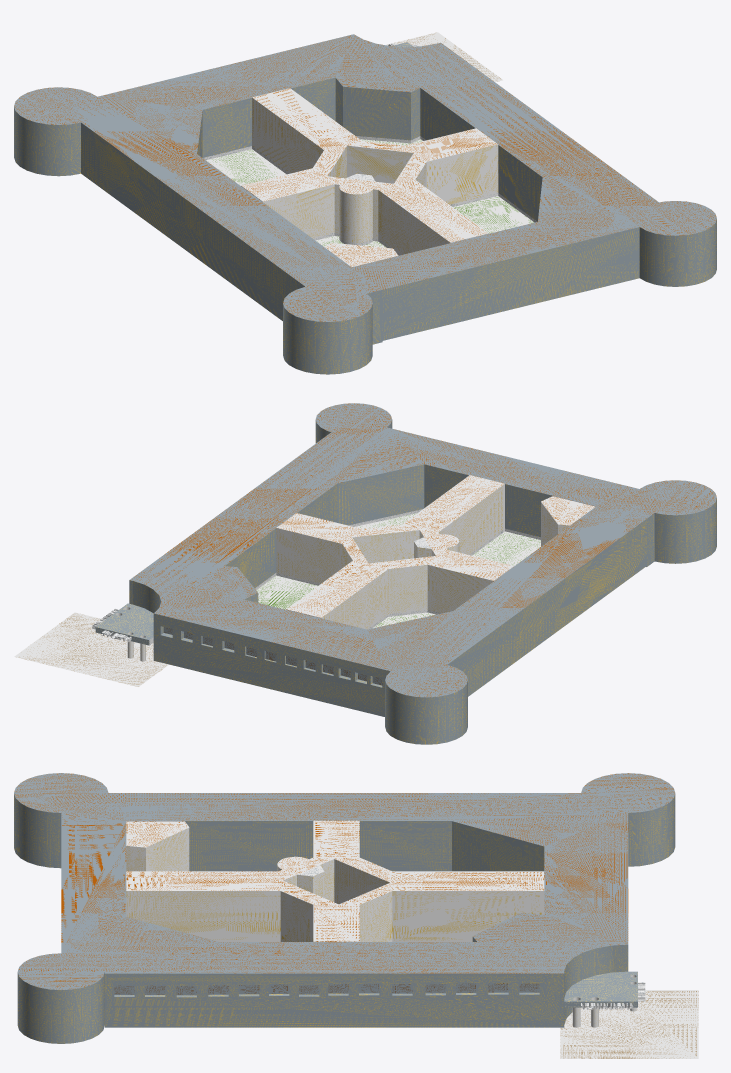
The model's file is vkj.fbx.
3 renders of one model, top to bottom at view 1: azimuth 30°, elevation 25°; view 2: azimuth 150°, elevation 25°; view 3: azimuth 270°, elevation 25°, orthographic. The views are drawn at different scales.
Parts seen in each view (by area): view 1: Model; view 2: Model; view 3: Model.
Part boxes in pixels (x1=…): Model: x1=14, y1=32, x2=716, y2=374; Model: x1=14, y1=403, x2=716, y2=744; Model: x1=14, y1=773, x2=698, y2=1058.
Bounding box in the file's own units: 1082036 × 121174 × 1385364.
